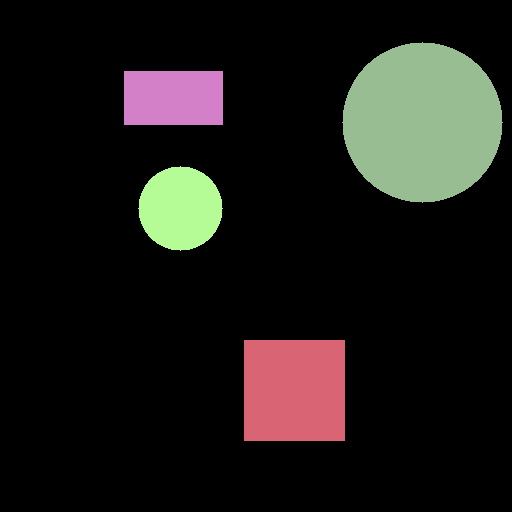circle: (342, 42, 502, 202), (138, 166, 222, 250)
rectangle: (124, 71, 222, 124)
square: (244, 340, 344, 440)
